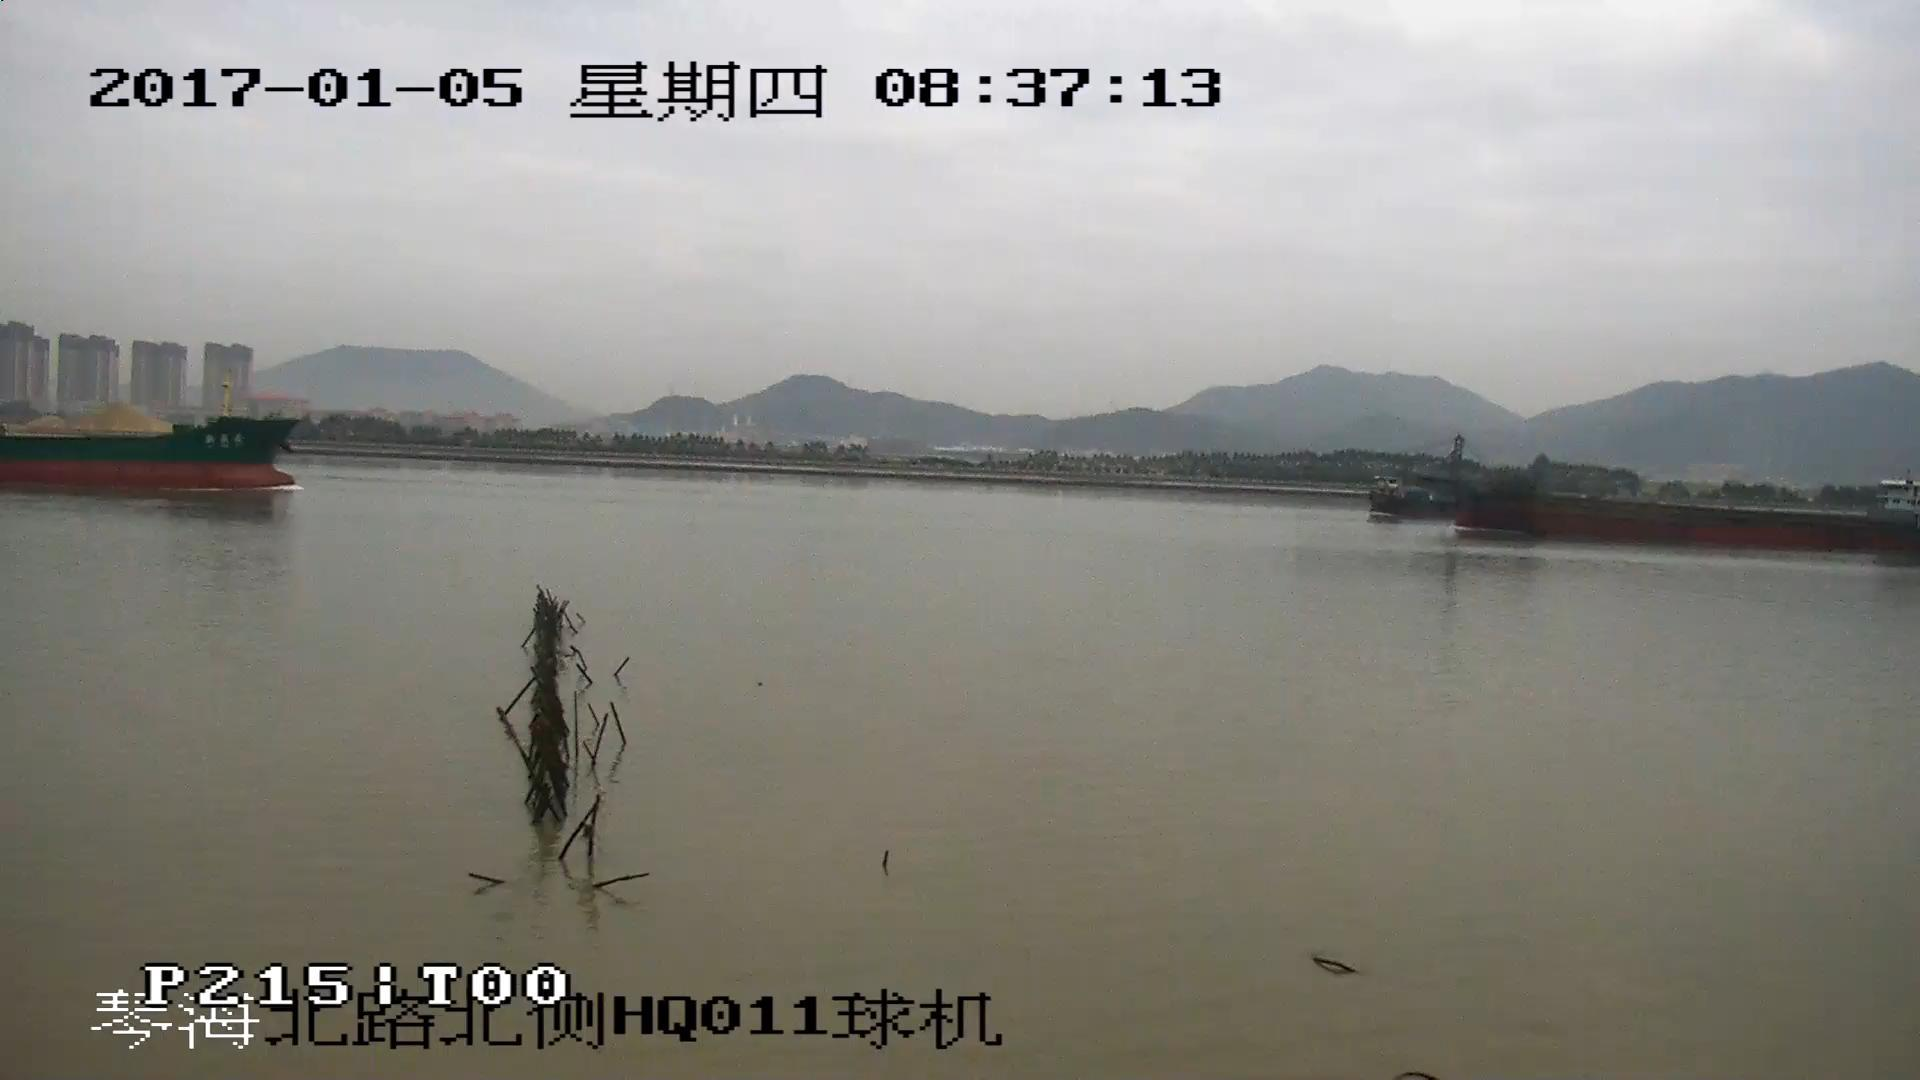Ship: (1375, 448, 1920, 551), (3, 373, 305, 495)
